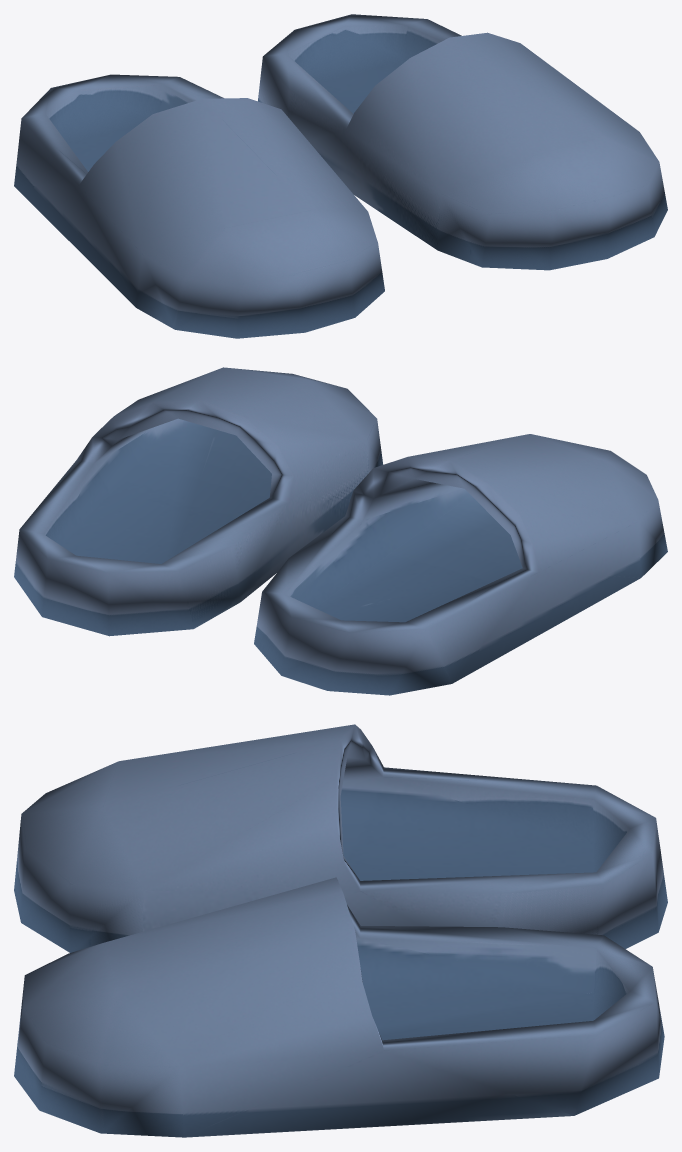
The model's file is slippers.glb.
3 views of the same model, one above another, from view 1: azimuth 30°, elevation 25°; view 2: azimuth 150°, elevation 25°; view 3: azimuth 270°, elevation 25° (orthographic). The views are drawn at different scales.
Size of the model in its own units: 0.9653 by 0.2427 by 0.8594.
Materials: 1 (1 with a texture image).
